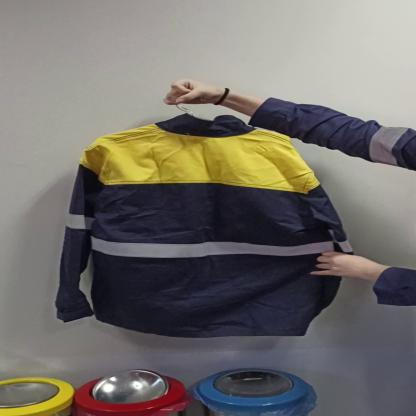C_eletrica: (55, 112, 358, 340)
